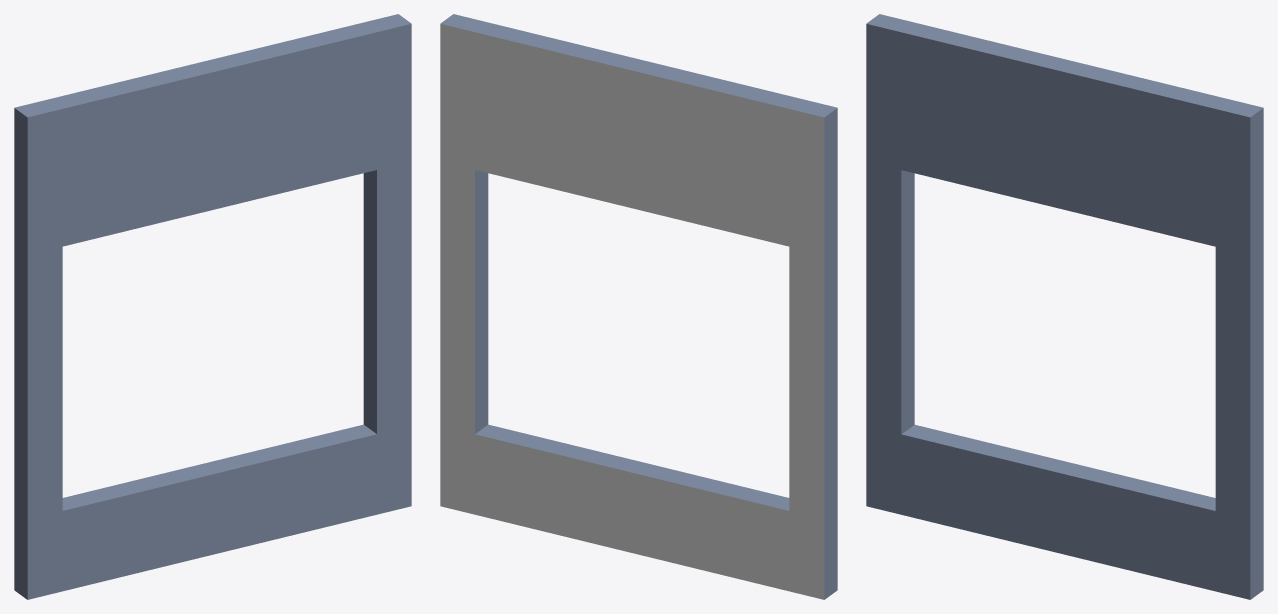
The model's file is Wall1_C3_05.fbx.
3 views of the same model, side by side, from view 1: azimuth 30°, elevation 25°; view 2: azimuth 150°, elevation 25°; view 3: azimuth 330°, elevation 25° (orthographic).
Parts seen in each view (by area): view 1: Wall1_C3_05; view 2: Wall1_C3_05; view 3: Wall1_C3_05.
Part boxes in pixels (bbox=[...]): Wall1_C3_05: bbox=[14, 14, 411, 599]; Wall1_C3_05: bbox=[440, 14, 837, 599]; Wall1_C3_05: bbox=[866, 14, 1263, 599].
Size of the model in its own units: 250 by 300 by 15.
